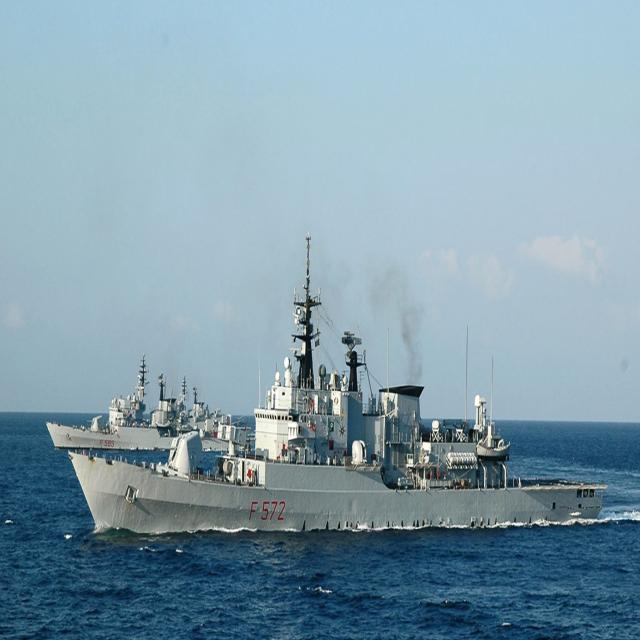navalvessels: (41, 218, 619, 563)
